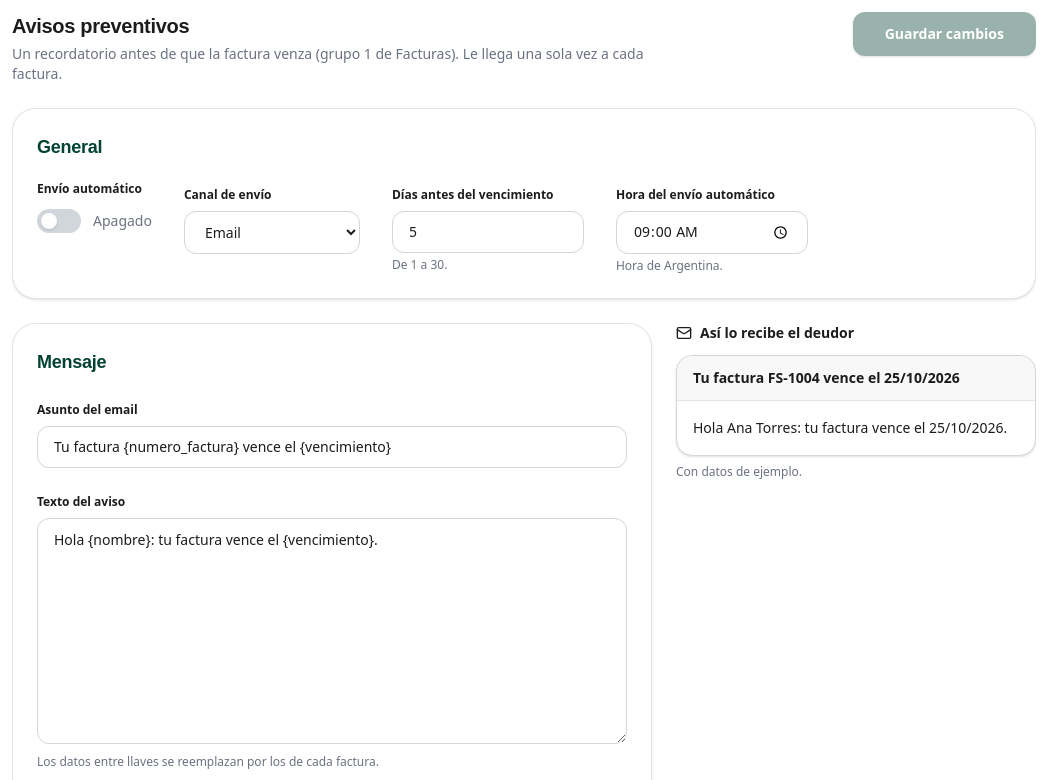
Test: NoticeSettingsForm › avisa si el canal elegido no está configurado en el servidor
Select "WhatsApp" in the dropdown labelled "Canal de envío" at (272, 232), box [184,211,360,254]
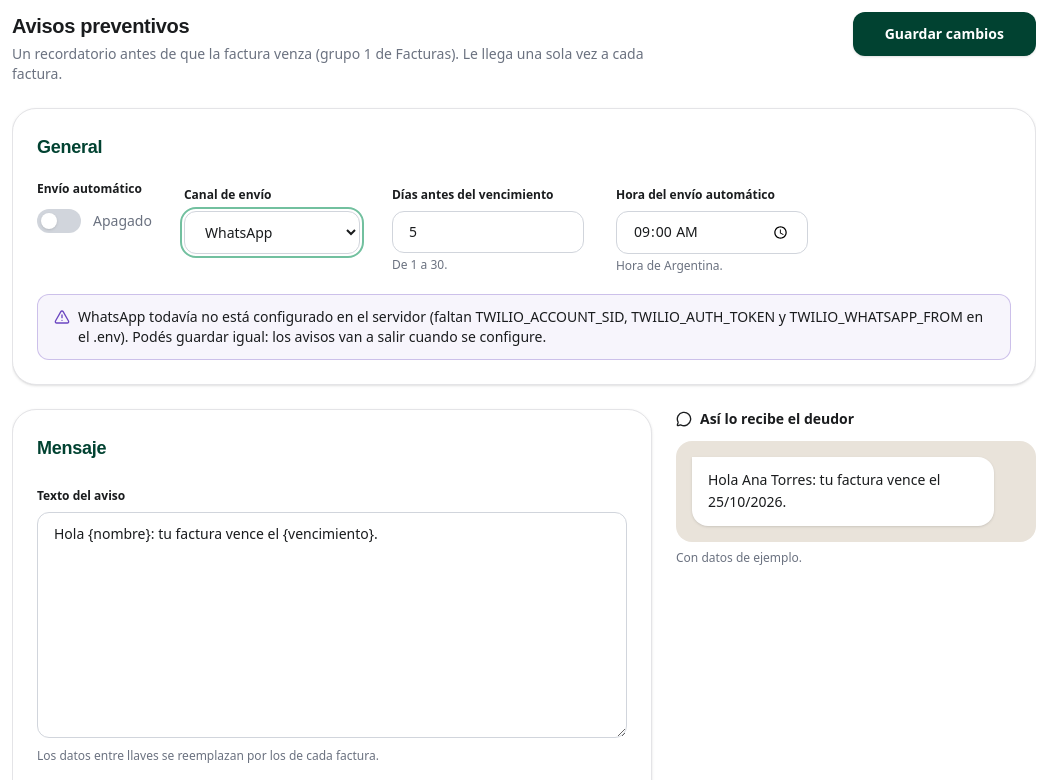
Expected: the text "WhatsApp todavía no está configurado" is shown, [78,307,994,347]
Expected: the label labelled "Asunto del email" is gone
